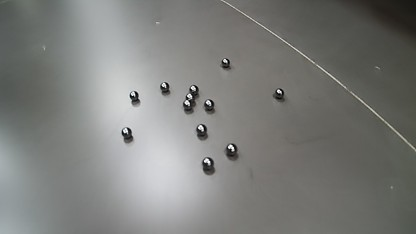ironball: (225, 143, 237, 156), (202, 157, 214, 170), (196, 123, 207, 136), (121, 127, 132, 139), (273, 88, 284, 99), (189, 84, 199, 95), (204, 99, 214, 110), (185, 92, 195, 103), (183, 99, 192, 111), (129, 91, 139, 101), (160, 82, 169, 92), (221, 58, 230, 68)
